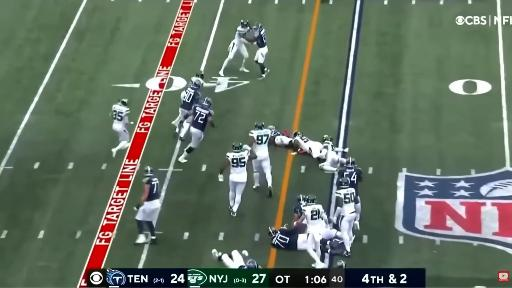Helmet: (231, 141, 242, 154), (255, 120, 266, 132), (338, 179, 350, 190), (203, 96, 213, 109), (253, 21, 262, 32), (143, 166, 152, 177), (344, 159, 356, 167), (337, 258, 346, 268), (322, 134, 333, 142), (293, 130, 305, 137), (118, 99, 128, 107), (240, 19, 249, 27), (248, 260, 257, 268), (196, 71, 205, 78), (297, 196, 306, 203), (269, 228, 276, 236), (308, 196, 315, 204), (192, 81, 198, 89), (268, 125, 275, 131)
Jersey: (227, 151, 249, 181), (335, 188, 358, 215), (302, 204, 325, 230), (271, 228, 298, 250), (339, 166, 362, 191), (250, 129, 271, 156), (191, 106, 212, 131), (180, 88, 200, 110), (144, 177, 159, 201), (112, 104, 129, 125), (235, 26, 248, 44), (255, 28, 266, 48), (295, 135, 309, 143), (323, 141, 334, 151), (294, 205, 302, 216), (237, 262, 247, 270), (271, 131, 283, 137)
Player: (219, 144, 256, 216), (269, 226, 325, 268), (179, 98, 214, 162), (172, 72, 203, 140), (294, 195, 341, 239), (334, 178, 360, 257), (135, 167, 161, 243), (219, 21, 250, 76), (249, 123, 272, 197), (298, 195, 328, 232), (111, 99, 130, 157), (319, 136, 347, 172), (212, 250, 261, 268), (253, 24, 269, 78), (339, 157, 362, 192), (293, 131, 322, 158), (268, 126, 292, 148), (292, 195, 306, 226)
